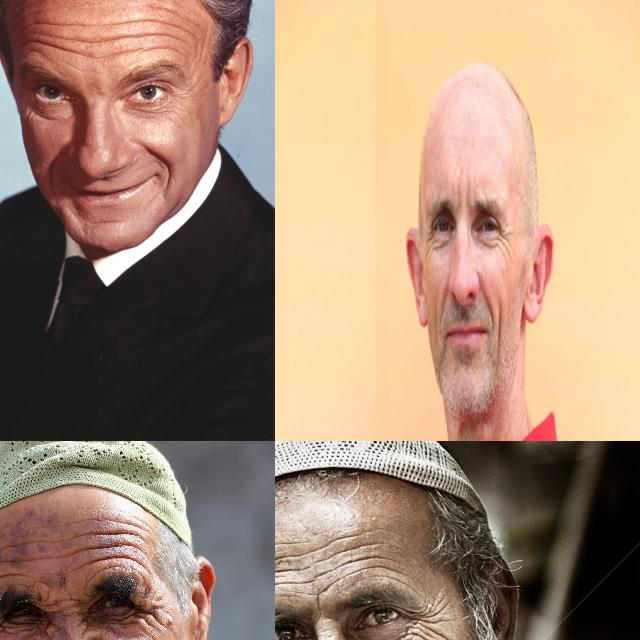crows_feet: (132, 602, 158, 638), (406, 608, 435, 640), (497, 224, 509, 249), (424, 223, 436, 247), (0, 614, 6, 638)
forehead: (165, 6, 198, 60), (24, 16, 66, 54), (74, 22, 112, 64), (120, 16, 160, 54), (99, 526, 139, 564), (338, 532, 372, 576), (302, 544, 331, 586), (378, 545, 408, 585), (0, 536, 33, 567), (58, 534, 88, 568), (275, 543, 295, 591), (0, 565, 34, 581)
frown_line: (44, 596, 82, 618), (456, 181, 464, 216)
gummy_smile: (147, 144, 186, 190), (44, 150, 66, 190), (481, 284, 494, 324)
masseter: (495, 307, 503, 355)
